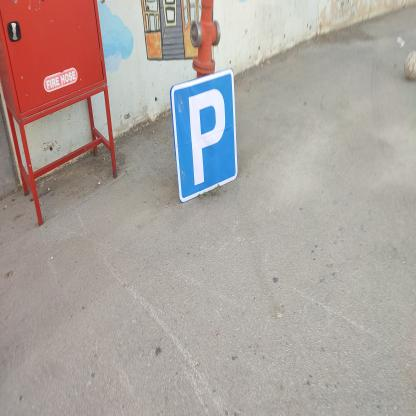Parking-Sign: (171, 69, 239, 205)
